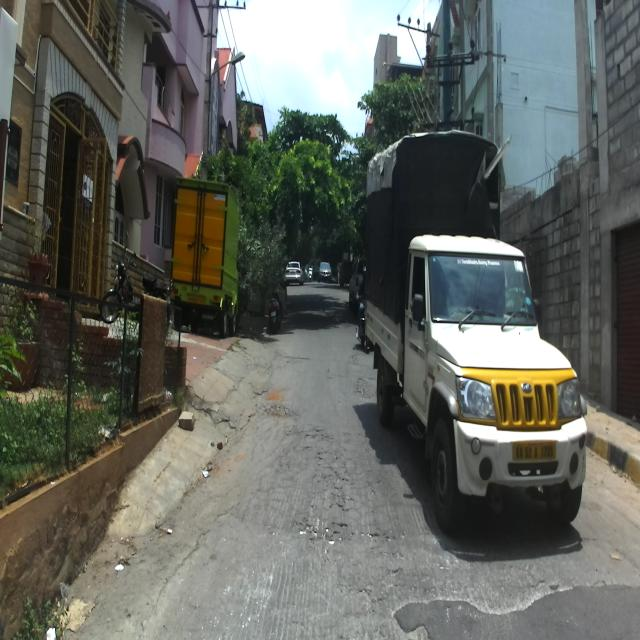truck ahead at: (365, 135, 589, 526), (172, 179, 247, 336)
